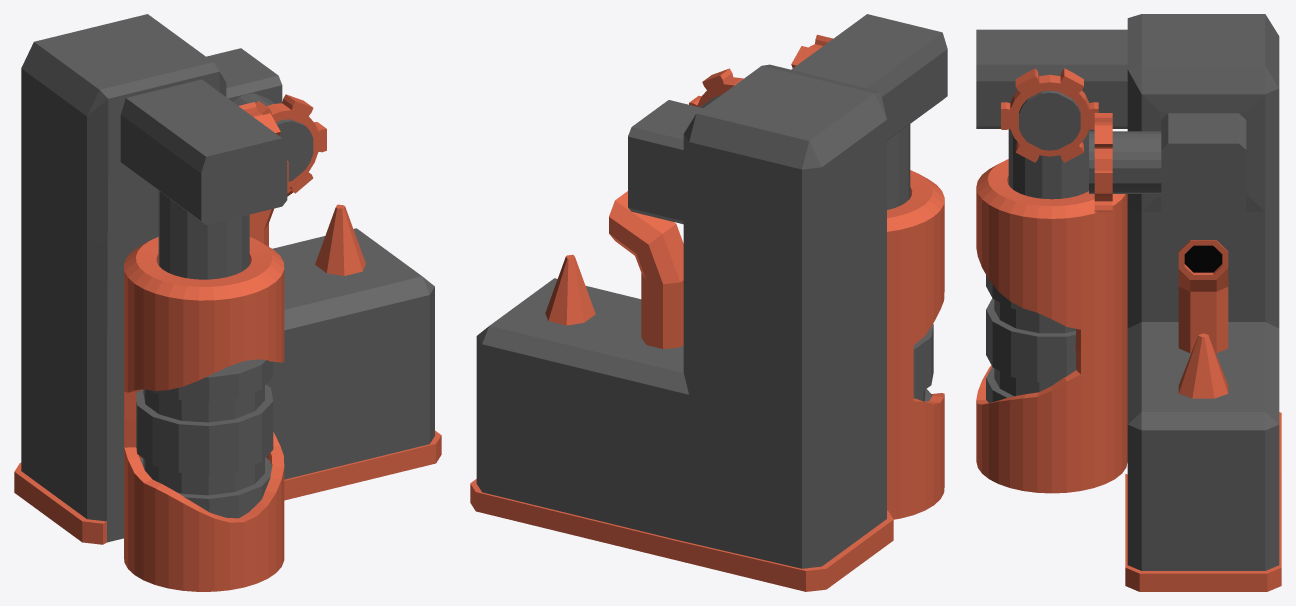
Rendered from Machine01.fbx.
3 renders of one model, left to right at view 1: azimuth 30°, elevation 25°; view 2: azimuth 150°, elevation 25°; view 3: azimuth 270°, elevation 25°, orthographic. The views are drawn at different scales.
Visible parts, largest first — view 1: Machine, Piston, Gear.001; view 2: Machine, Piston, Gear.001; view 3: Machine, Piston, Gear, Gear.001.
Part boxes in pixels (<box>): Machine: <box>14,14,441,591</box>; Piston: <box>136,190,273,518</box>; Gear.001: <box>233,93,326,193</box>; Machine: <box>470,14,947,591</box>; Piston: <box>887,124,933,401</box>; Gear.001: <box>689,68,743,108</box>; Machine: <box>976,14,1281,591</box>; Piston: <box>986,129,1094,402</box>; Gear: <box>1001,68,1098,162</box>; Gear.001: <box>1089,113,1161,212</box>.
Bounding box in the file's own units: 516 × 614 × 403.
